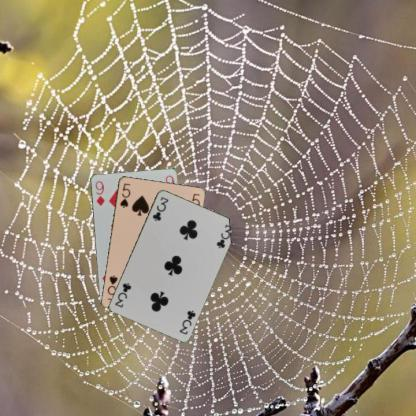3c: (176, 307, 197, 336), (150, 194, 170, 223)
5s: (117, 181, 132, 208)
9d: (92, 178, 106, 207)
